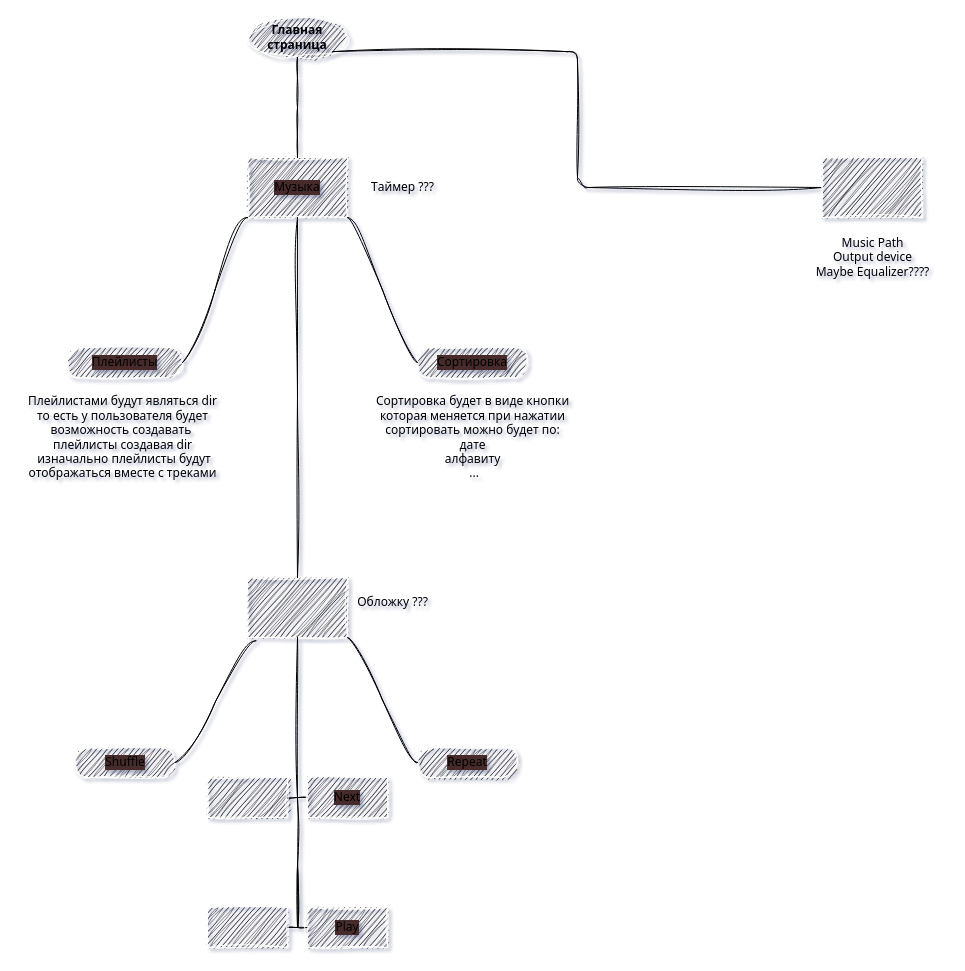
This 965x971 diagram has some shape labels left out. The centre of each missing label's shape, as x and y in pixels:
"Pause" goes at (x=247, y=927).
"Prev" goes at (x=247, y=797).
"Settings" goes at (x=871, y=187).
"Трек" goes at (x=297, y=607).
